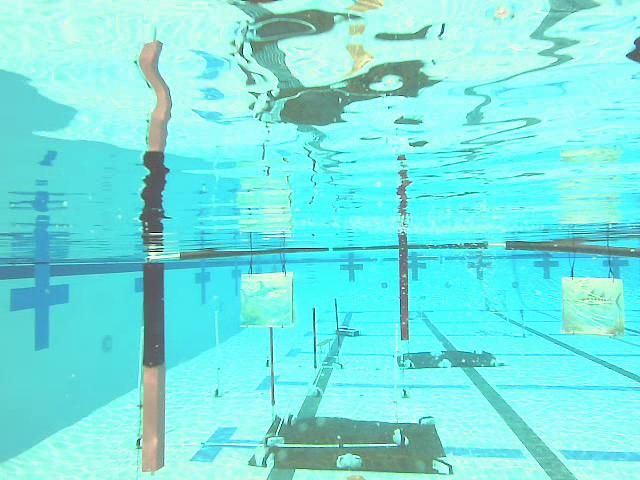black_poster: (268, 323, 276, 406), (312, 308, 319, 368)
divider: (399, 249, 409, 342)
left_gate_poster: (143, 263, 167, 471)
shark: (240, 275, 293, 324)
swordfish: (561, 278, 623, 336)
